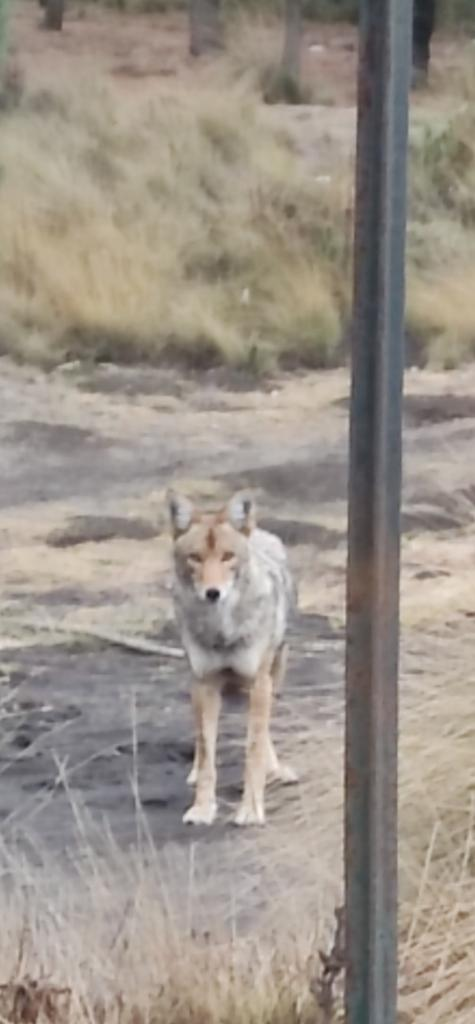Coyote: (161, 484, 301, 833)
